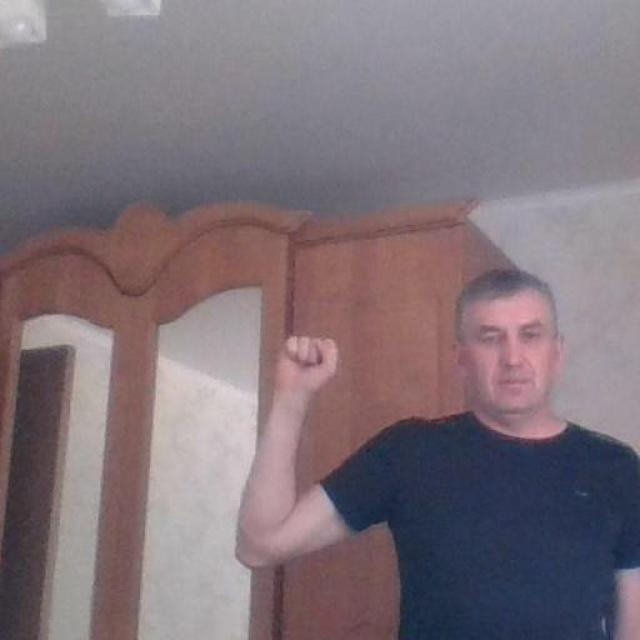hand: (271, 334, 339, 396)
